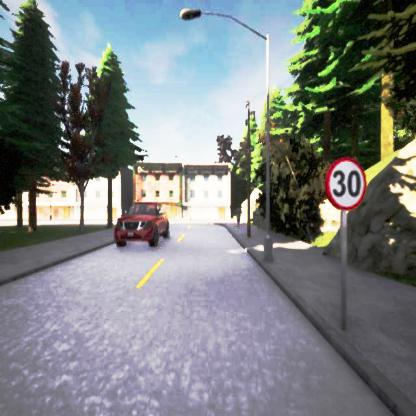vehicle: (114, 203, 170, 246)
